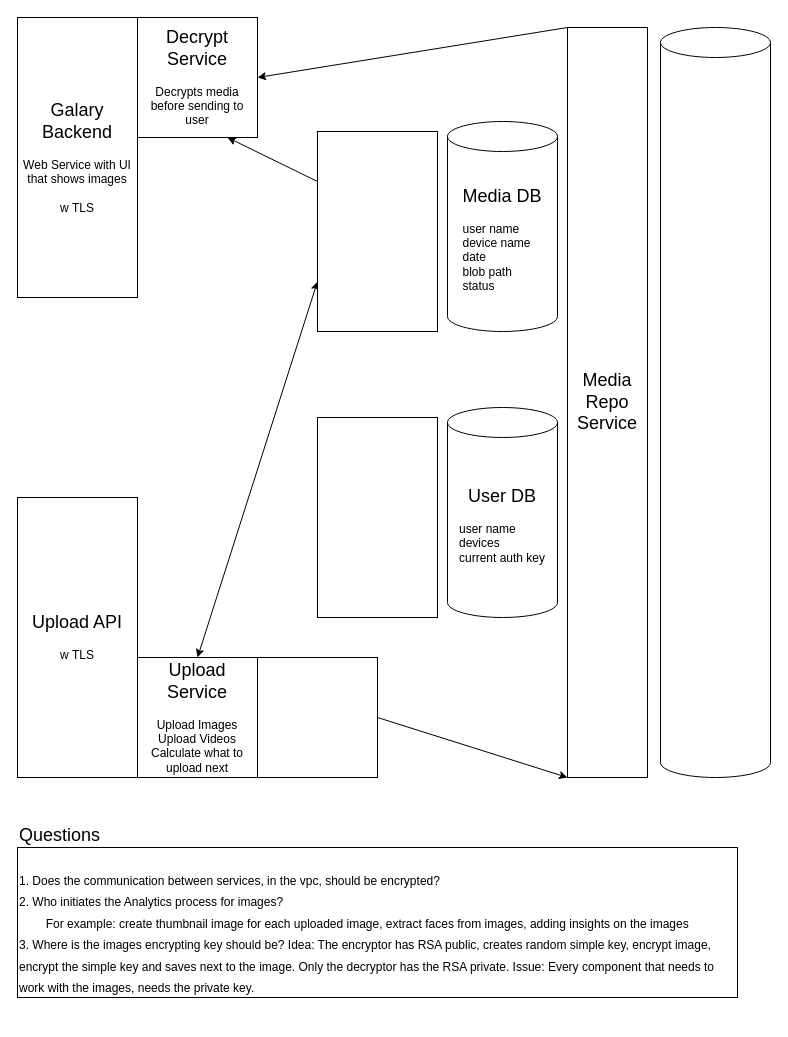
Some shapes in this 788 by 1037 pixel diagram are drawn without their labels. Here are the shapes that lost their labels. From the top down, the centre of each, then its label:
At pixel 377 231: "Media Service Create new Media record Update media record".
At pixel 715 402: "Media Repository Encrypted Blobs".
At pixel 377 517: "User Service Create User Auth User".
At pixel 317 717: "Encrypt Service Encrypts media before saving in repo".
